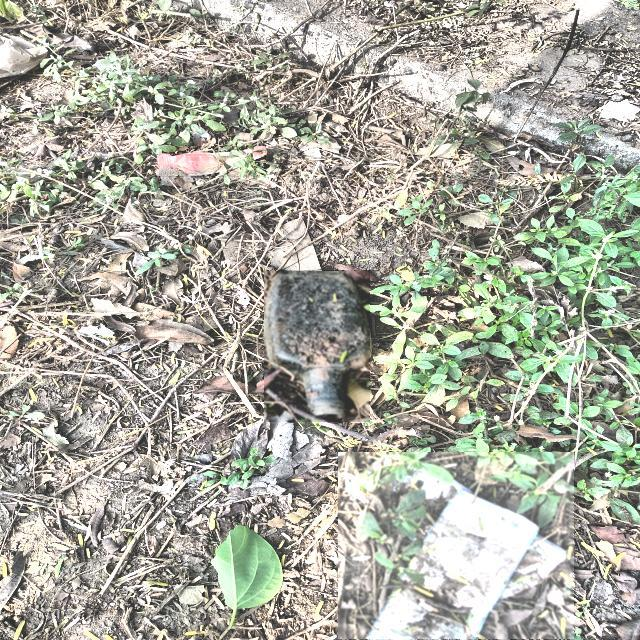anorganik: (338, 452, 573, 639), (264, 271, 369, 422), (159, 147, 266, 177)
